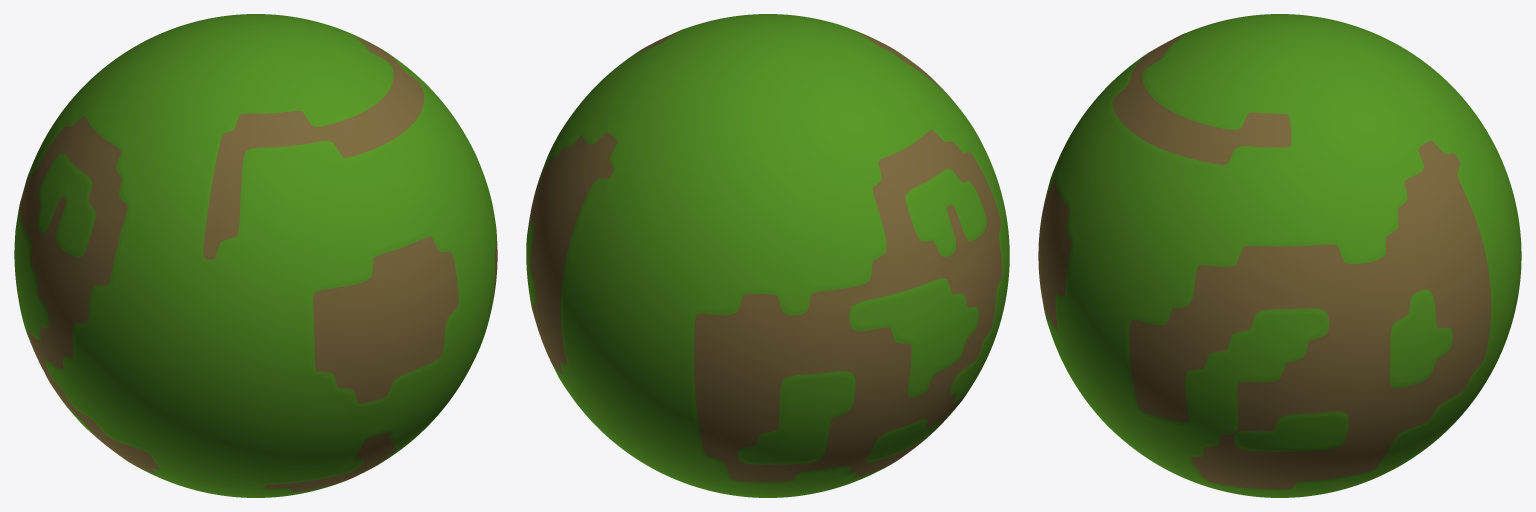
Rendered from Environment.fbx.
3 renders of one model, left to right at view 1: azimuth 30°, elevation 25°; view 2: azimuth 150°, elevation 25°; view 3: azimuth 270°, elevation 25°, orthographic.
Parts seen in each view (by area): view 1: Sphere; view 2: Sphere; view 3: Sphere.
Part boxes in pixels (x1,y1,x2,y2): Sphere: [14, 14, 497, 497]; Sphere: [526, 14, 1009, 497]; Sphere: [1038, 14, 1521, 497].
Size of the model in its own units: 1996 by 1999 by 1993.
